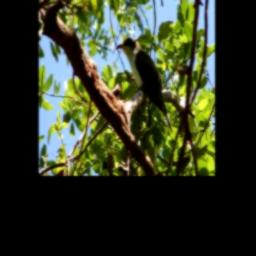Cuckoo: (115, 37, 172, 133)
